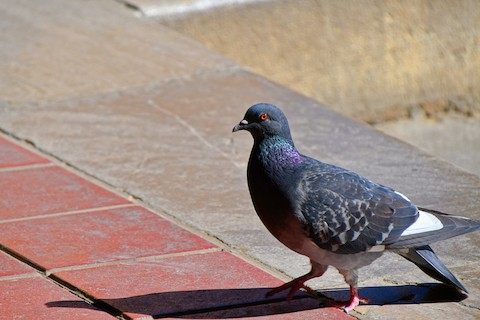pigeon: (229, 100, 473, 315)
